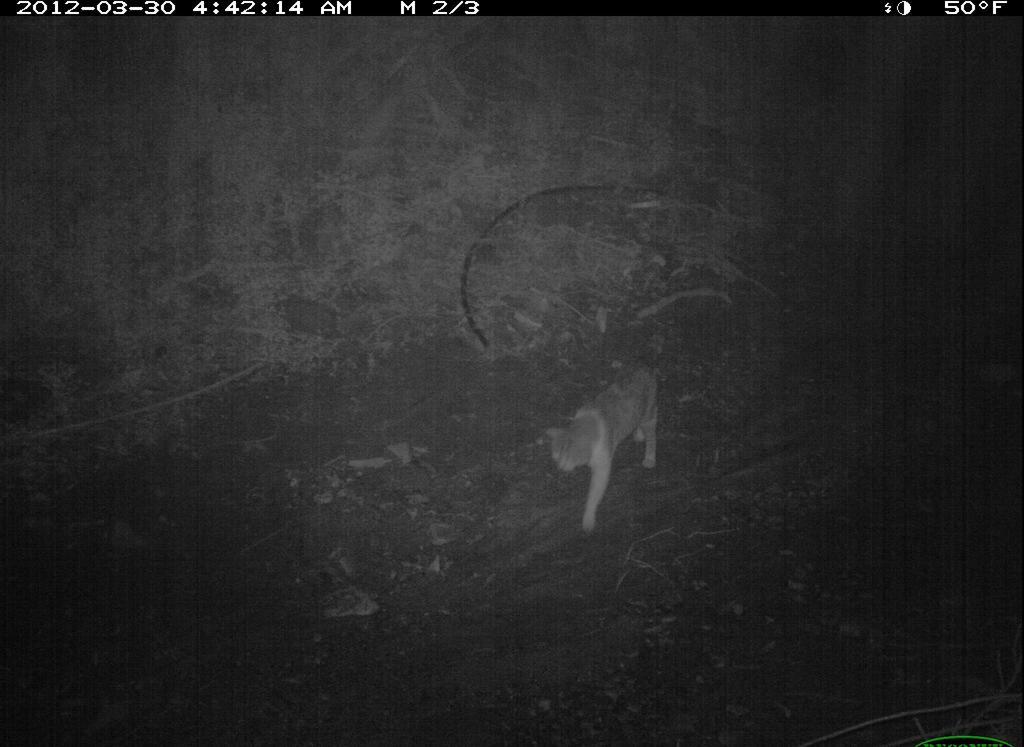cat: (545, 350, 665, 535)
